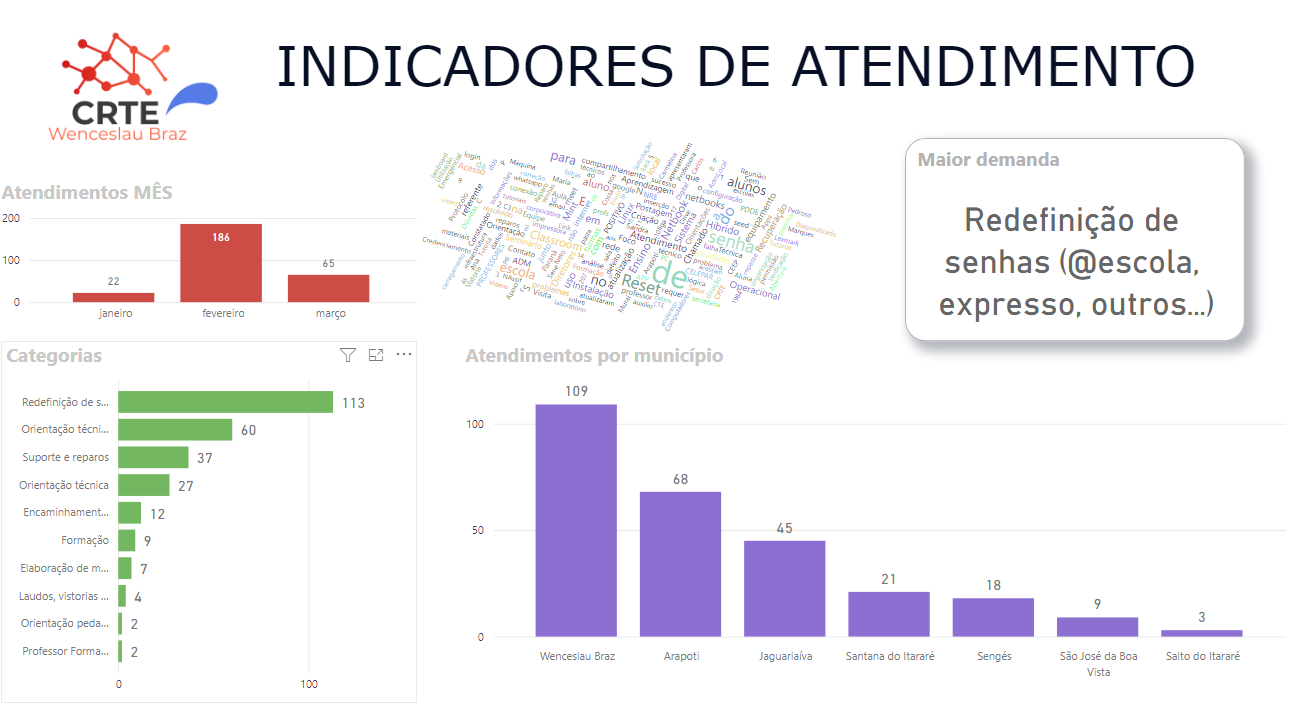

What the dashboard file says about the page in this screenshot:
{"tool":"powerbi","page":{"name":"Página 1","canvas":[1280,720],"ordinal":0},"visuals":[{"type":"image","box":[0,0,266.5,192.6],"z":0},{"type":"textbox","box":[266.9,37,918.6,89.6],"z":1000},{"type":"columnChart","title":"Atendimentos por município","fields":{"Category":["Indicadores.Município:"],"Y":["Indicadores.ID"]},"box":[452.3,345.3,810.2,336.5],"z":2000},{"type":"barChart","title":"Categorias","fields":{"Category":["Indicadores.Categorias"],"Y":["Indicadores.ID"]},"box":[4.9,345.3,405.6,352.1],"z":3000},{"type":"card","title":"Maior demanda","fields":{"Values":["Indicadores.Categorias"]},"box":[885.5,147.1,331.2,197.7],"z":4000},{"type":"columnChart","title":"Atendimentos MÊS","fields":{"Y":["Indicadores.ID"],"Category":["Indicadores.Data do atendimento.Variation.Hierarquia de datas.Mês"]},"box":[0,185.8,415.3,149.8],"z":5000},{"type":"WordCloud1447959067750","fields":{"Values":["Indicadores.Descrição"],"Category":["Indicadores.Descrição"]},"box":[397.8,138.1,460.1,221.8],"z":6000}]}

Visuals, with their boxes in screenshot pixels (x1, y1, x2, y2), scaled from the page's 1280x720 canvas onto the 1308x715 screenshot:
image: pyautogui.locateOnScreen(0, 0, 272, 191)
textbox: pyautogui.locateOnScreen(273, 37, 1211, 126)
"Atendimentos por município" columnChart: pyautogui.locateOnScreen(462, 343, 1290, 677)
"Categorias" barChart: pyautogui.locateOnScreen(5, 343, 419, 693)
"Maior demanda" card: pyautogui.locateOnScreen(905, 146, 1243, 342)
"Atendimentos MÊS" columnChart: pyautogui.locateOnScreen(0, 185, 424, 333)
WordCloud1447959067750 - Indicadores.Descrição x Indicadores.Descrição: pyautogui.locateOnScreen(407, 137, 877, 357)
